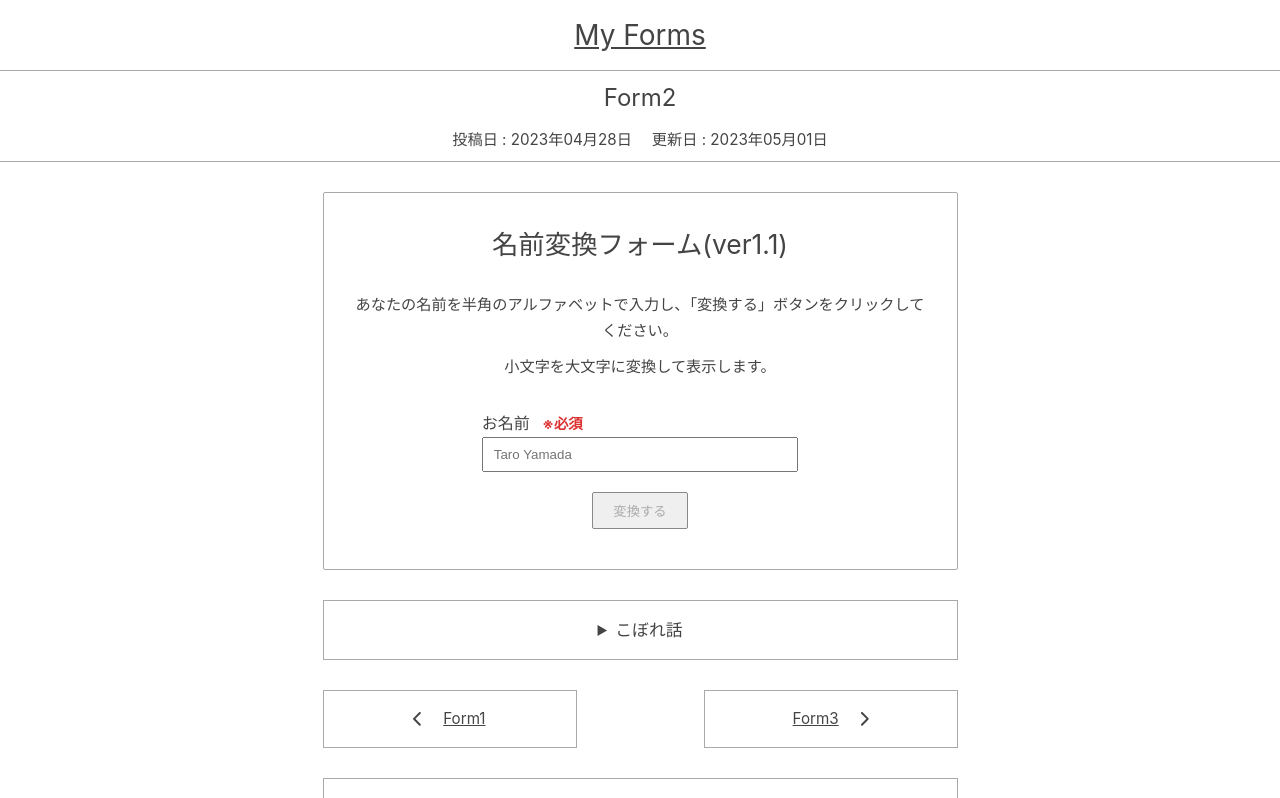
Test case: Form2 › フォームに名前を入力した時、各要素が正しい状態になること › フォームに名前を入力してから削除した時、エラーメッセージが表示されること
This screenshot has width=1280, height=798.
Step 1. Type "kento" into the field labelled "お名前 ※必須" → point(640, 454), box [482,436,798,472]
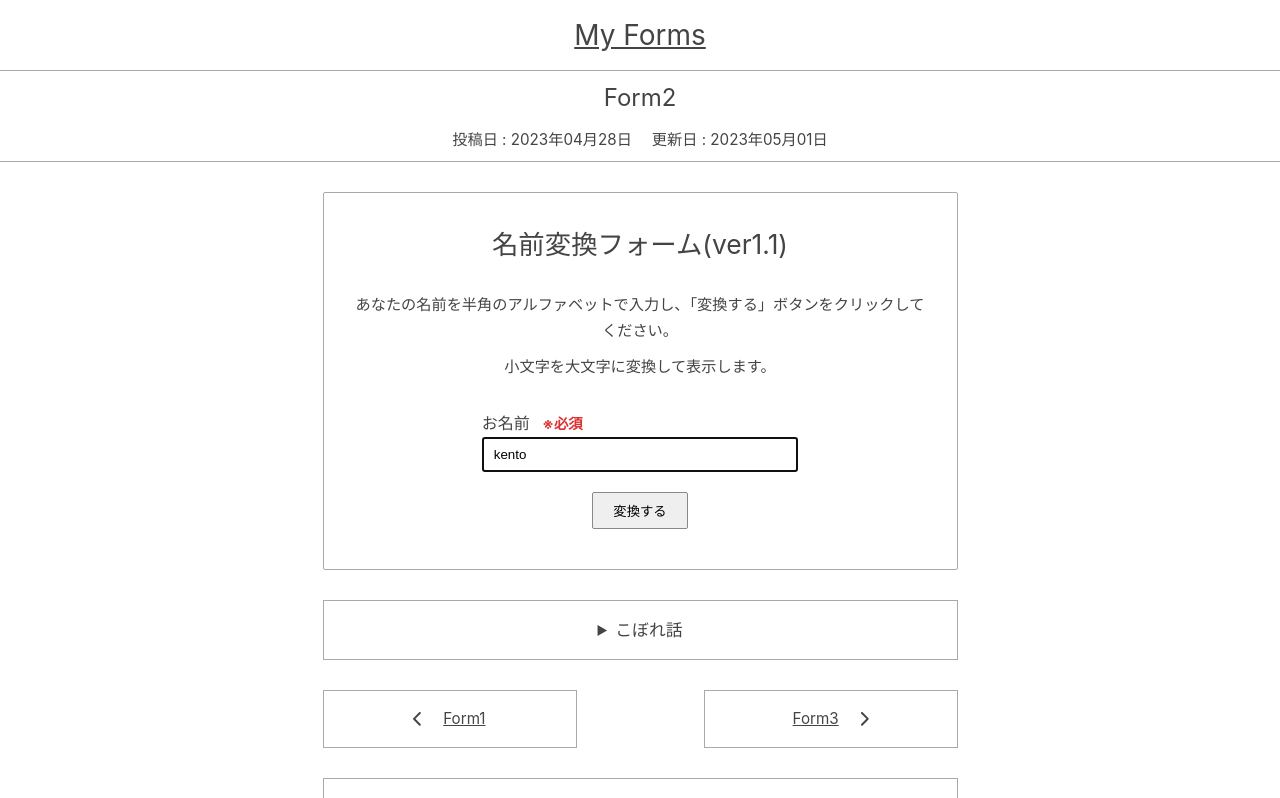
Step 2. Clear the field labelled "お名前 ※必須" → point(640, 454), box [482,436,798,472]
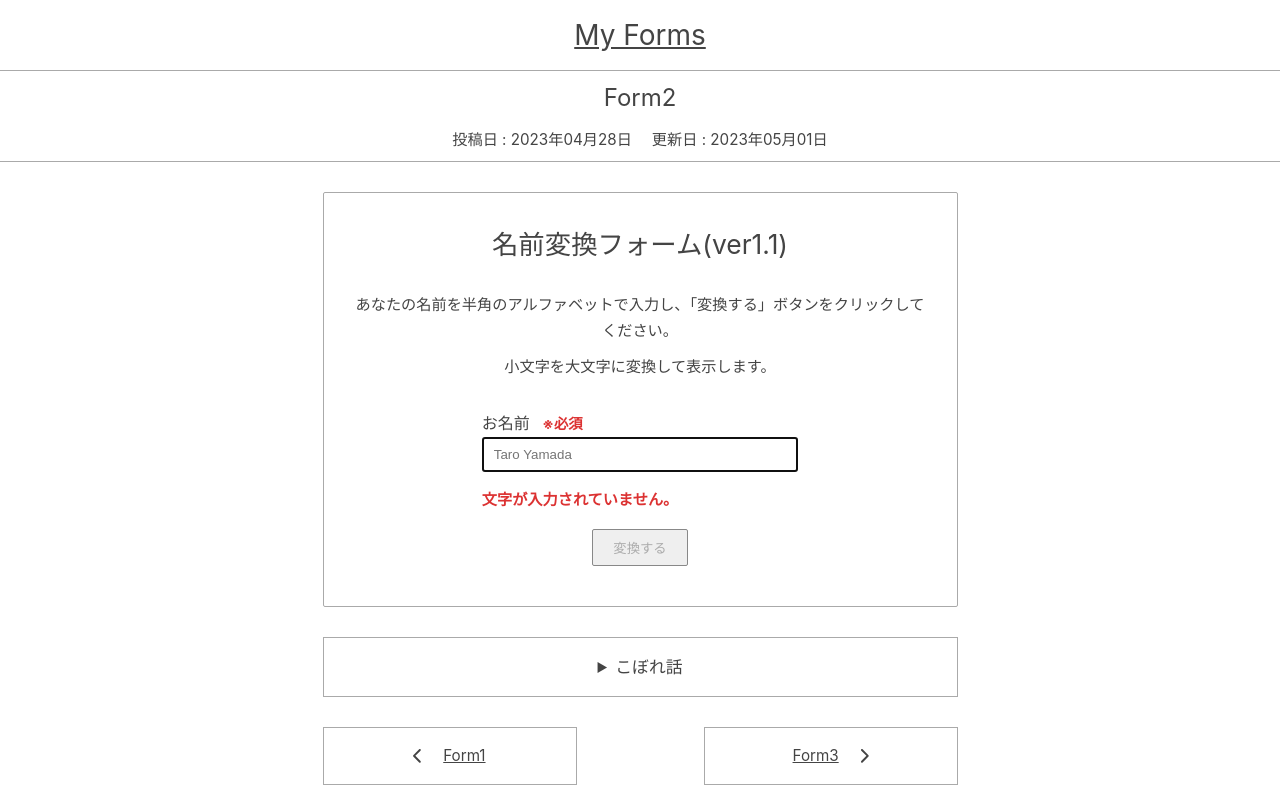
Expected: the text "文字が入力されていません。" is shown, [482,490,678,508]
